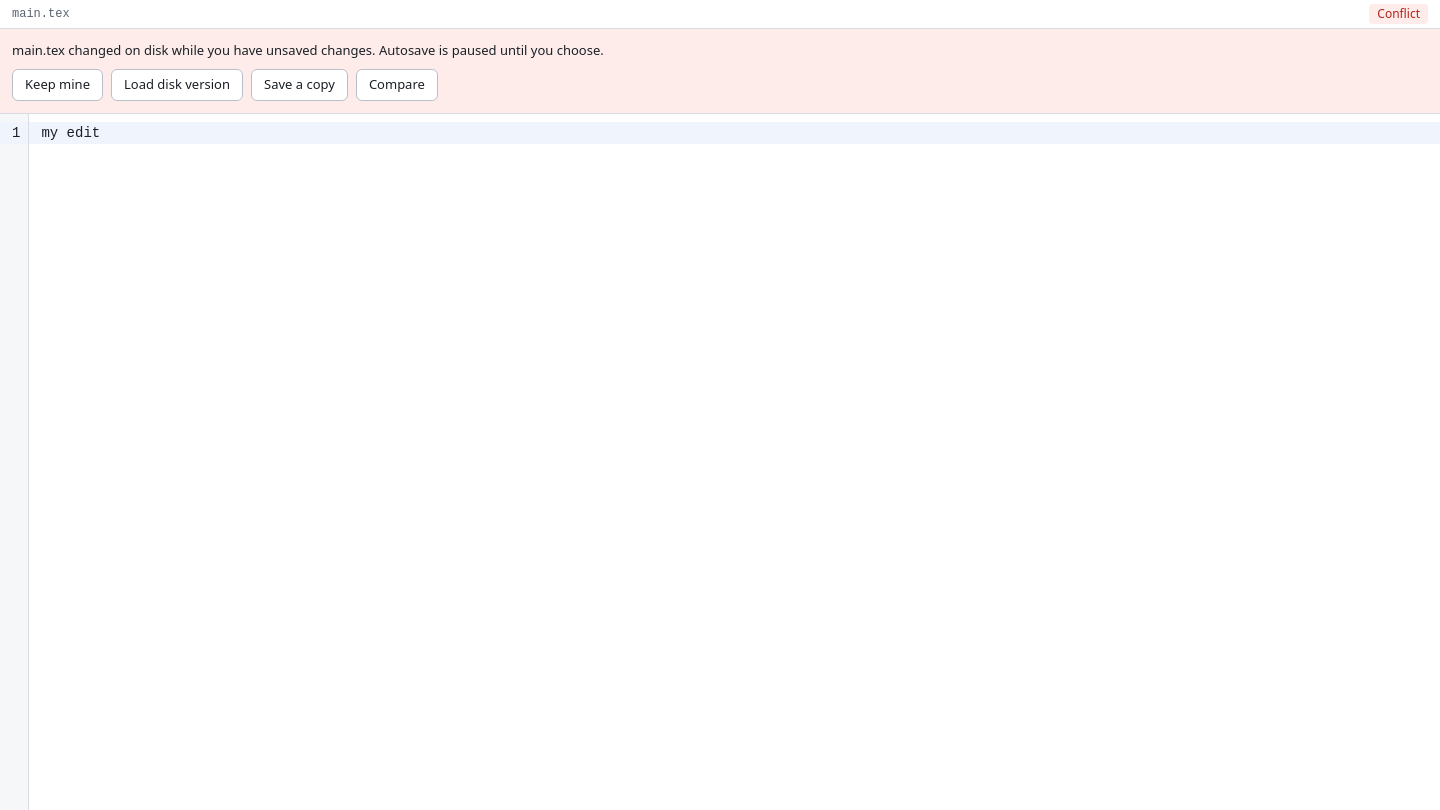
EditorPane external changes › Load disk version shows the disk text and closes the banner
Click the button "Load disk version".
click(177, 84)  # box [111,68,243,100]
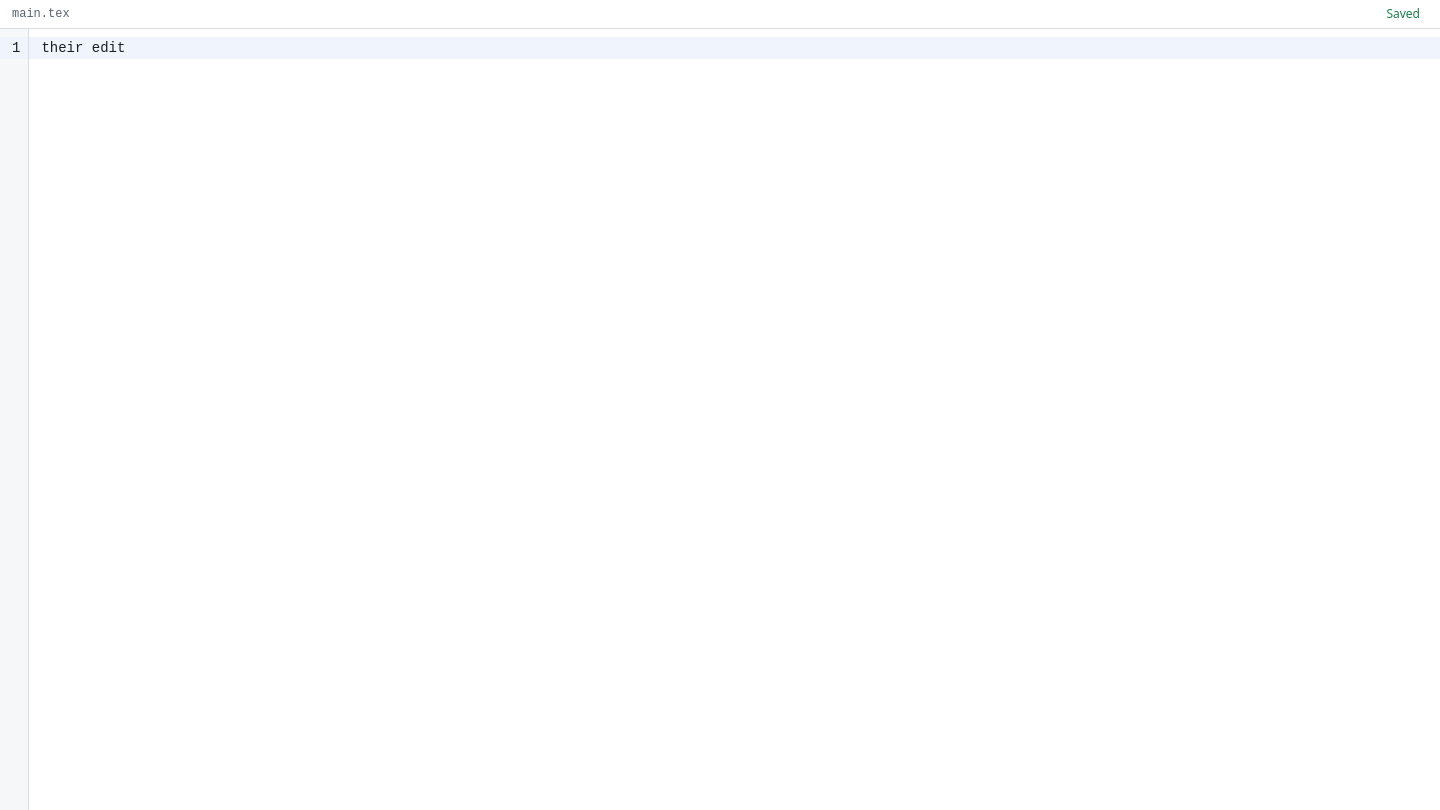
Check: the text box labelled "their edit" is shown, box [29,37,1439,59]
